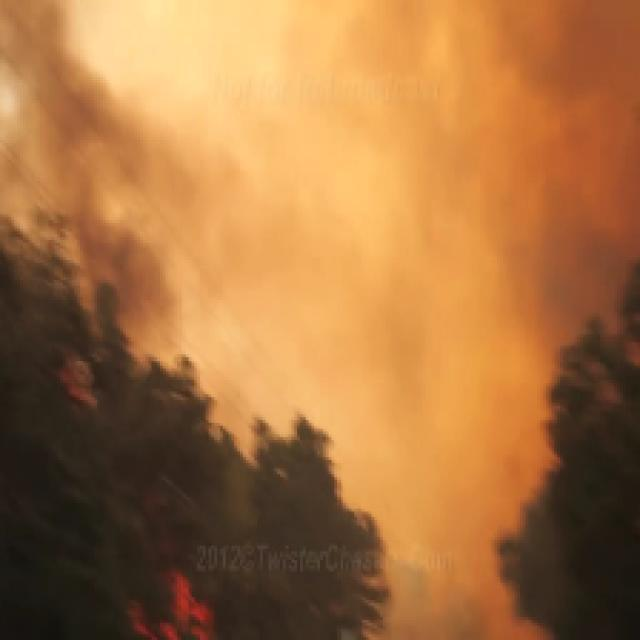Fire: (103, 551, 286, 640)
Smoke: (0, 0, 640, 371)
